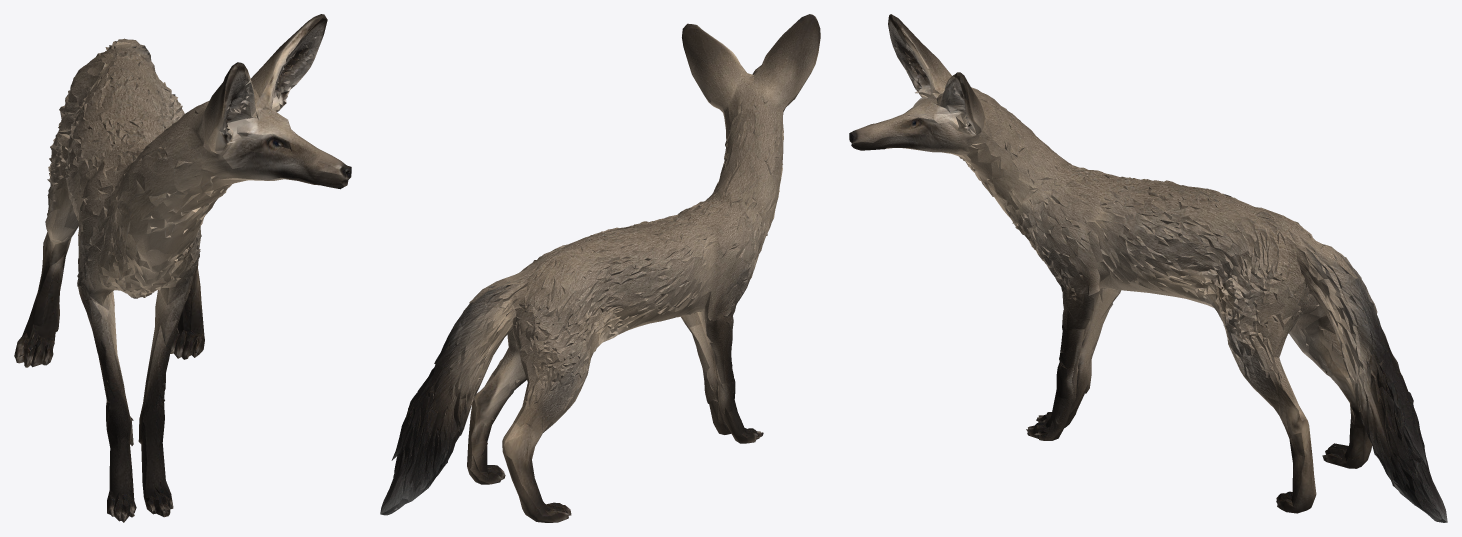
The model's file is bat-eared-fox.glb.
3 renders of one model, left to right at view 1: azimuth 30°, elevation 25°; view 2: azimuth 150°, elevation 25°; view 3: azimuth 270°, elevation 25°, orthographic. The views are drawn at different scales.
Bounding box in the file's own units: 0.8513 × 1.45 × 1.9.
1 material, 1 textured.
